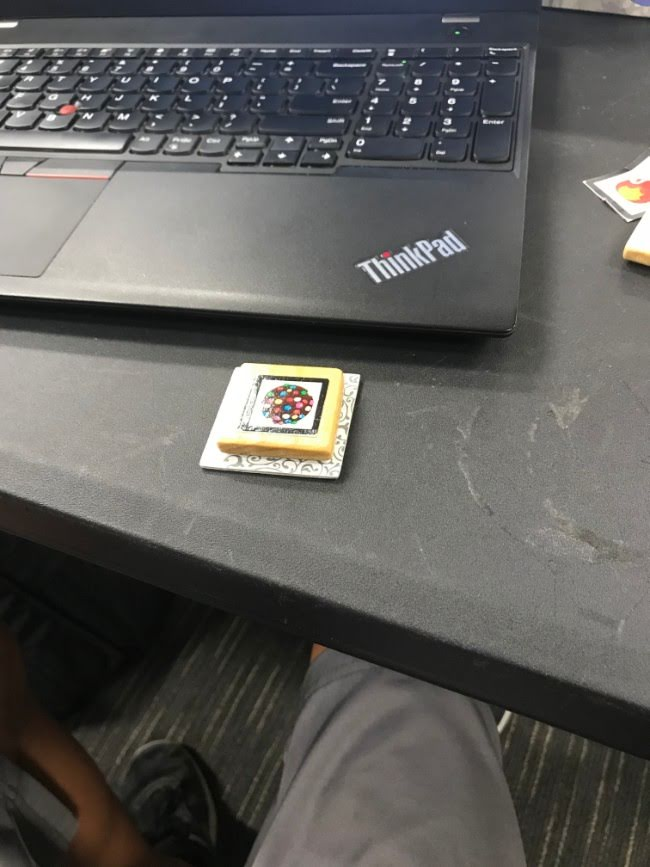cookie: (240, 373, 330, 434)
